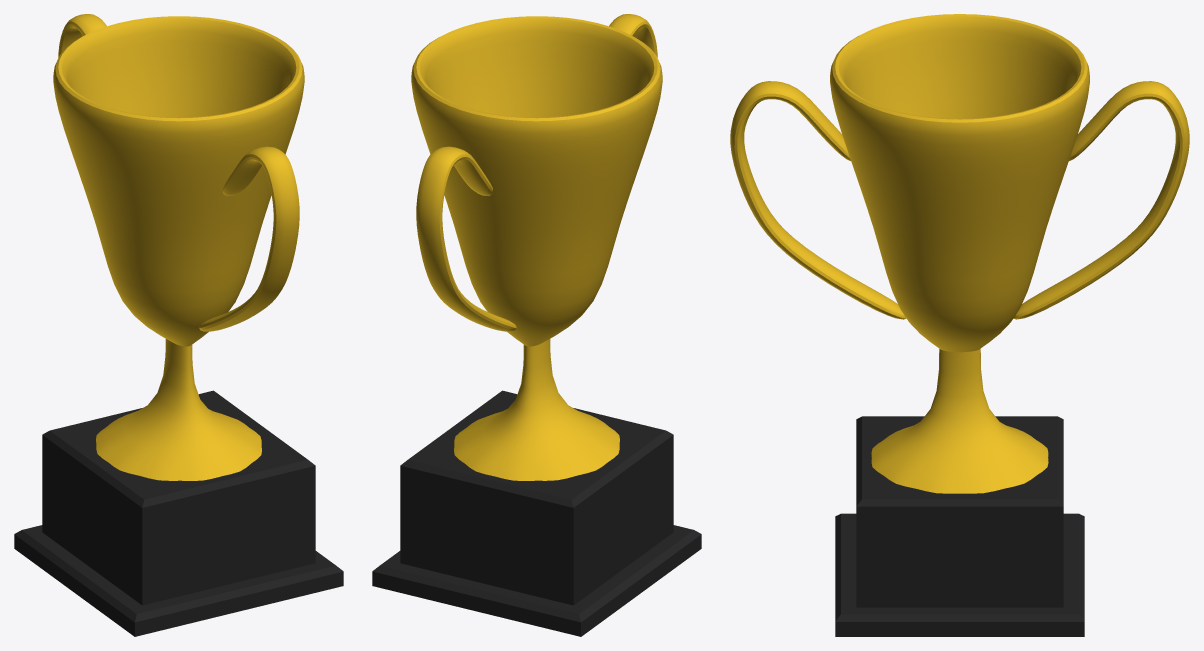
Rendered from puchar1.fbx.
3 views of the same model, side by side, from view 1: azimuth 30°, elevation 25°; view 2: azimuth 150°, elevation 25°; view 3: azimuth 270°, elevation 25° (orthographic). The views are drawn at different scales.
Visible parts, largest first — view 1: Circle; view 2: Circle; view 3: Circle.
Part boxes in pixels (x1=…): Circle: x1=14, y1=14, x2=343, y2=636; Circle: x1=372, y1=14, x2=701, y2=636; Circle: x1=730, y1=14, x2=1189, y2=636.
Bounding box in the file's own units: 294 × 645 × 519.
